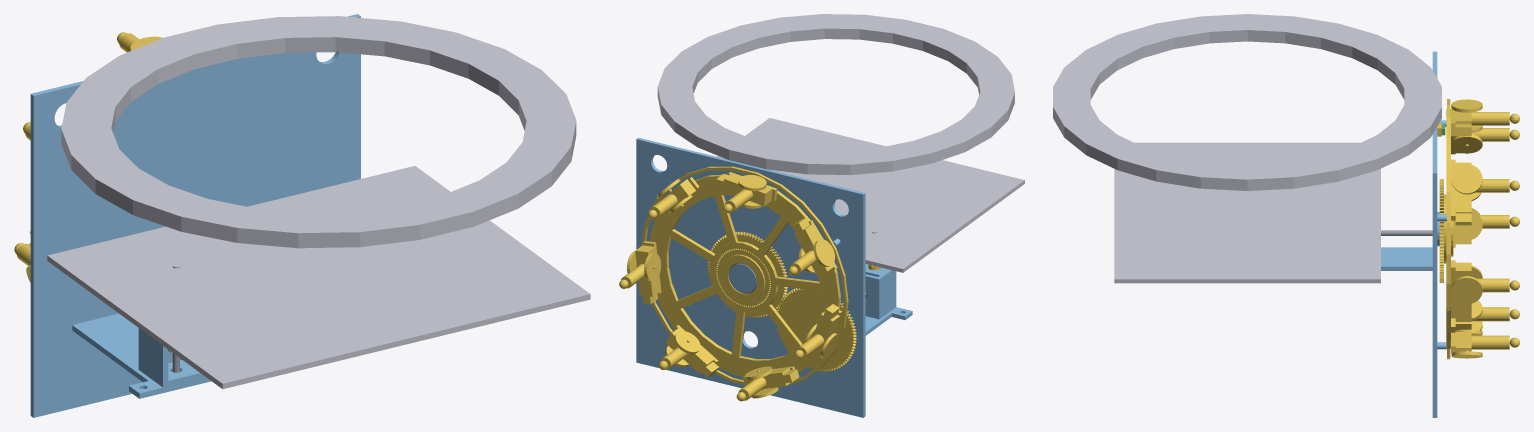
Rendered from m7_weekdays.dae.
3 renders of one model, left to right at view 1: azimuth 30°, elevation 25°; view 2: azimuth 150°, elevation 25°; view 3: azimuth 270°, elevation 25°, orthographic. The views are drawn at different scales.
Visible parts, largest first — view 1: M2_back_plate_zone, deck, M2_calendar_ring_zone, bracket; view 2: deck, M2_calendar_ring_zone, M2_back_plate_zone, turntable, turntable_hub, lay_gear_85, rail, bracket, chariot_6, chariot_2, chariot_3, chariot_5 (+3 smaller); view 3: M2_back_plate_zone, M2_calendar_ring_zone, chariot_4, deck, chariot_3, chariot_5, chariot_2, bracket, chariot_0, chariot_6, rail, chariot_1 (+2 smaller).
Boxes of the visible parts, x1=… form: M2_back_plate_zone: x1=47, y1=166, x2=590, y2=389; deck: x1=30, y1=14, x2=360, y2=417; M2_calendar_ring_zone: x1=61, y1=16, x2=576, y2=248; bracket: x1=72, y1=313, x2=211, y2=398; deck: x1=636, y1=137, x2=865, y2=417; M2_calendar_ring_zone: x1=657, y1=14, x2=1014, y2=174; M2_back_plate_zone: x1=717, y1=118, x2=1024, y2=272; turntable: x1=649, y1=174, x2=840, y2=376; turntable_hub: x1=707, y1=231, x2=787, y2=317; lay_gear_85: x1=776, y1=288, x2=856, y2=371; rail: x1=641, y1=166, x2=848, y2=387; bracket: x1=865, y1=264, x2=912, y2=335; chariot_6: x1=788, y1=217, x2=837, y2=275; chariot_2: x1=658, y1=325, x2=718, y2=377; chariot_3: x1=619, y1=241, x2=661, y2=304; chariot_5: x1=715, y1=172, x2=777, y2=212; M2_back_plate_zone: x1=1114, y1=142, x2=1380, y2=283; M2_calendar_ring_zone: x1=1053, y1=14, x2=1441, y2=190; chariot_4: x1=1451, y1=159, x2=1519, y2=225; deck: x1=1432, y1=51, x2=1446, y2=417; chariot_3: x1=1451, y1=260, x2=1519, y2=321; chariot_5: x1=1451, y1=99, x2=1519, y2=136; chariot_2: x1=1451, y1=329, x2=1519, y2=358; bracket: x1=1381, y1=247, x2=1432, y2=270; chariot_0: x1=1453, y1=208, x2=1519, y2=247; chariot_6: x1=1451, y1=128, x2=1519, y2=154; rail: x1=1447, y1=99, x2=1450, y2=359; chariot_1: x1=1451, y1=301, x2=1519, y2=332.
Bounding box in the file's own units: 341 × 406 × 250.
